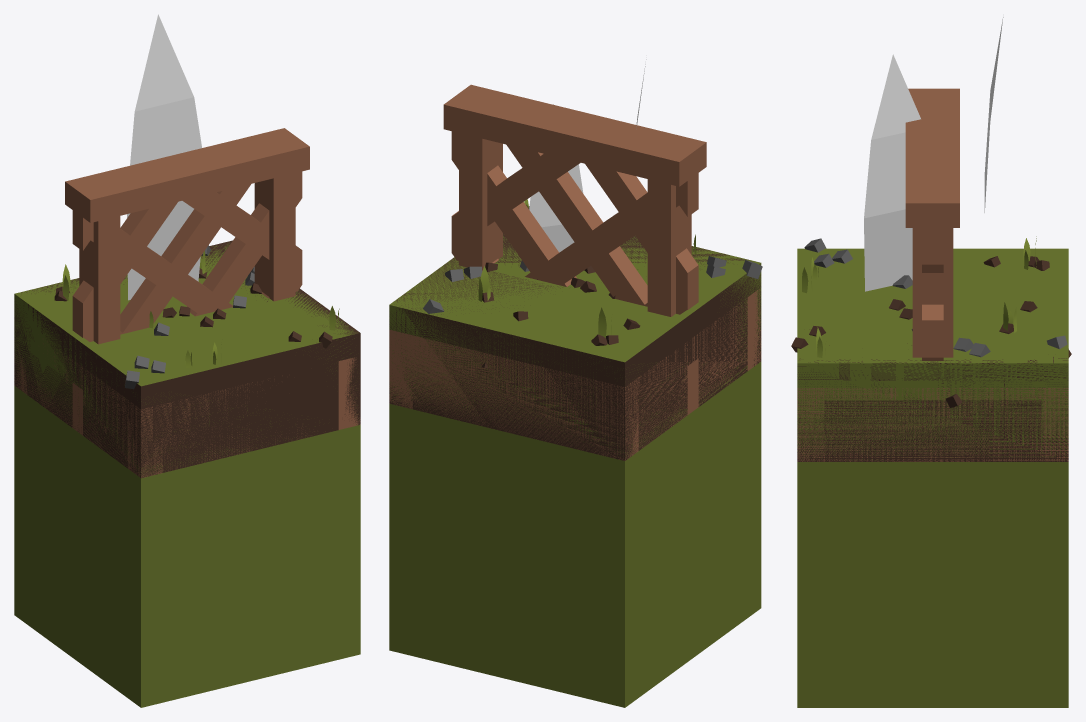
Rendered from GameAssets.glb.
3 views of the same model, side by side, from view 1: azimuth 30°, elevation 25°; view 2: azimuth 150°, elevation 25°; view 3: azimuth 270°, elevation 25° (orthographic). The views are drawn at different scales.
Visible parts, largest first — view 1: Gound Cube, Block Ground 1, Shade Solo, Block Grass 1, Shade Middle, Raised Bed I, Grass 1, Raised Bed O, Shade End Right, Shade End Left, Block Ground 2; view 2: Gound Cube, Block Ground 1, Shade Solo, Block Grass 1, Raised Bed O, Shade End Right, Shade Middle, Shade End Left, Block Ground 2, Grass 1, Raised Bed L; view 3: Gound Cube, Block Grass 1, Block Ground 1, Shade Solo, Raised Bed O, Grass 1, Raised Bed L, Raised Bed U, Shade End Left, Block Ground 2.
Boxes of the visible parts, x1,y1,x2,y2 form: Gound Cube: [14, 386, 360, 707]; Block Ground 1: [14, 240, 360, 478]; Shade Solo: [65, 128, 309, 344]; Block Grass 1: [14, 243, 358, 475]; Shade Middle: [72, 171, 302, 435]; Raised Bed I: [163, 373, 338, 472]; Grass 1: [127, 14, 201, 300]; Raised Bed O: [14, 338, 360, 477]; Shade End Right: [82, 184, 269, 336]; Shade End Left: [120, 172, 302, 315]; Block Ground 2: [54, 245, 301, 373]; Gound Cube: [389, 362, 761, 707]; Block Ground 1: [389, 206, 762, 460]; Shade Solo: [443, 84, 706, 316]; Block Grass 1: [389, 199, 761, 456]; Raised Bed O: [389, 289, 761, 460]; Shade End Right: [487, 144, 687, 314]; Shade Middle: [452, 132, 698, 414]; Shade End Left: [451, 131, 647, 293]; Block Ground 2: [423, 256, 726, 345]; Grass 1: [529, 59, 646, 252]; Raised Bed L: [414, 393, 601, 454]; Gound Cube: [797, 462, 1068, 707]; Block Grass 1: [797, 236, 1068, 461]; Block Ground 1: [791, 238, 1068, 461]; Shade Solo: [905, 88, 959, 357]; Raised Bed O: [797, 388, 1068, 461]; Grass 1: [864, 17, 1003, 291]; Raised Bed L: [824, 393, 1041, 461]; Raised Bed U: [824, 400, 1041, 461]; Shade End Left: [922, 215, 943, 460]; Block Ground 2: [809, 249, 1067, 357].
Bounding box in the file's own units: 1.06 × 2.59 × 1.03.
